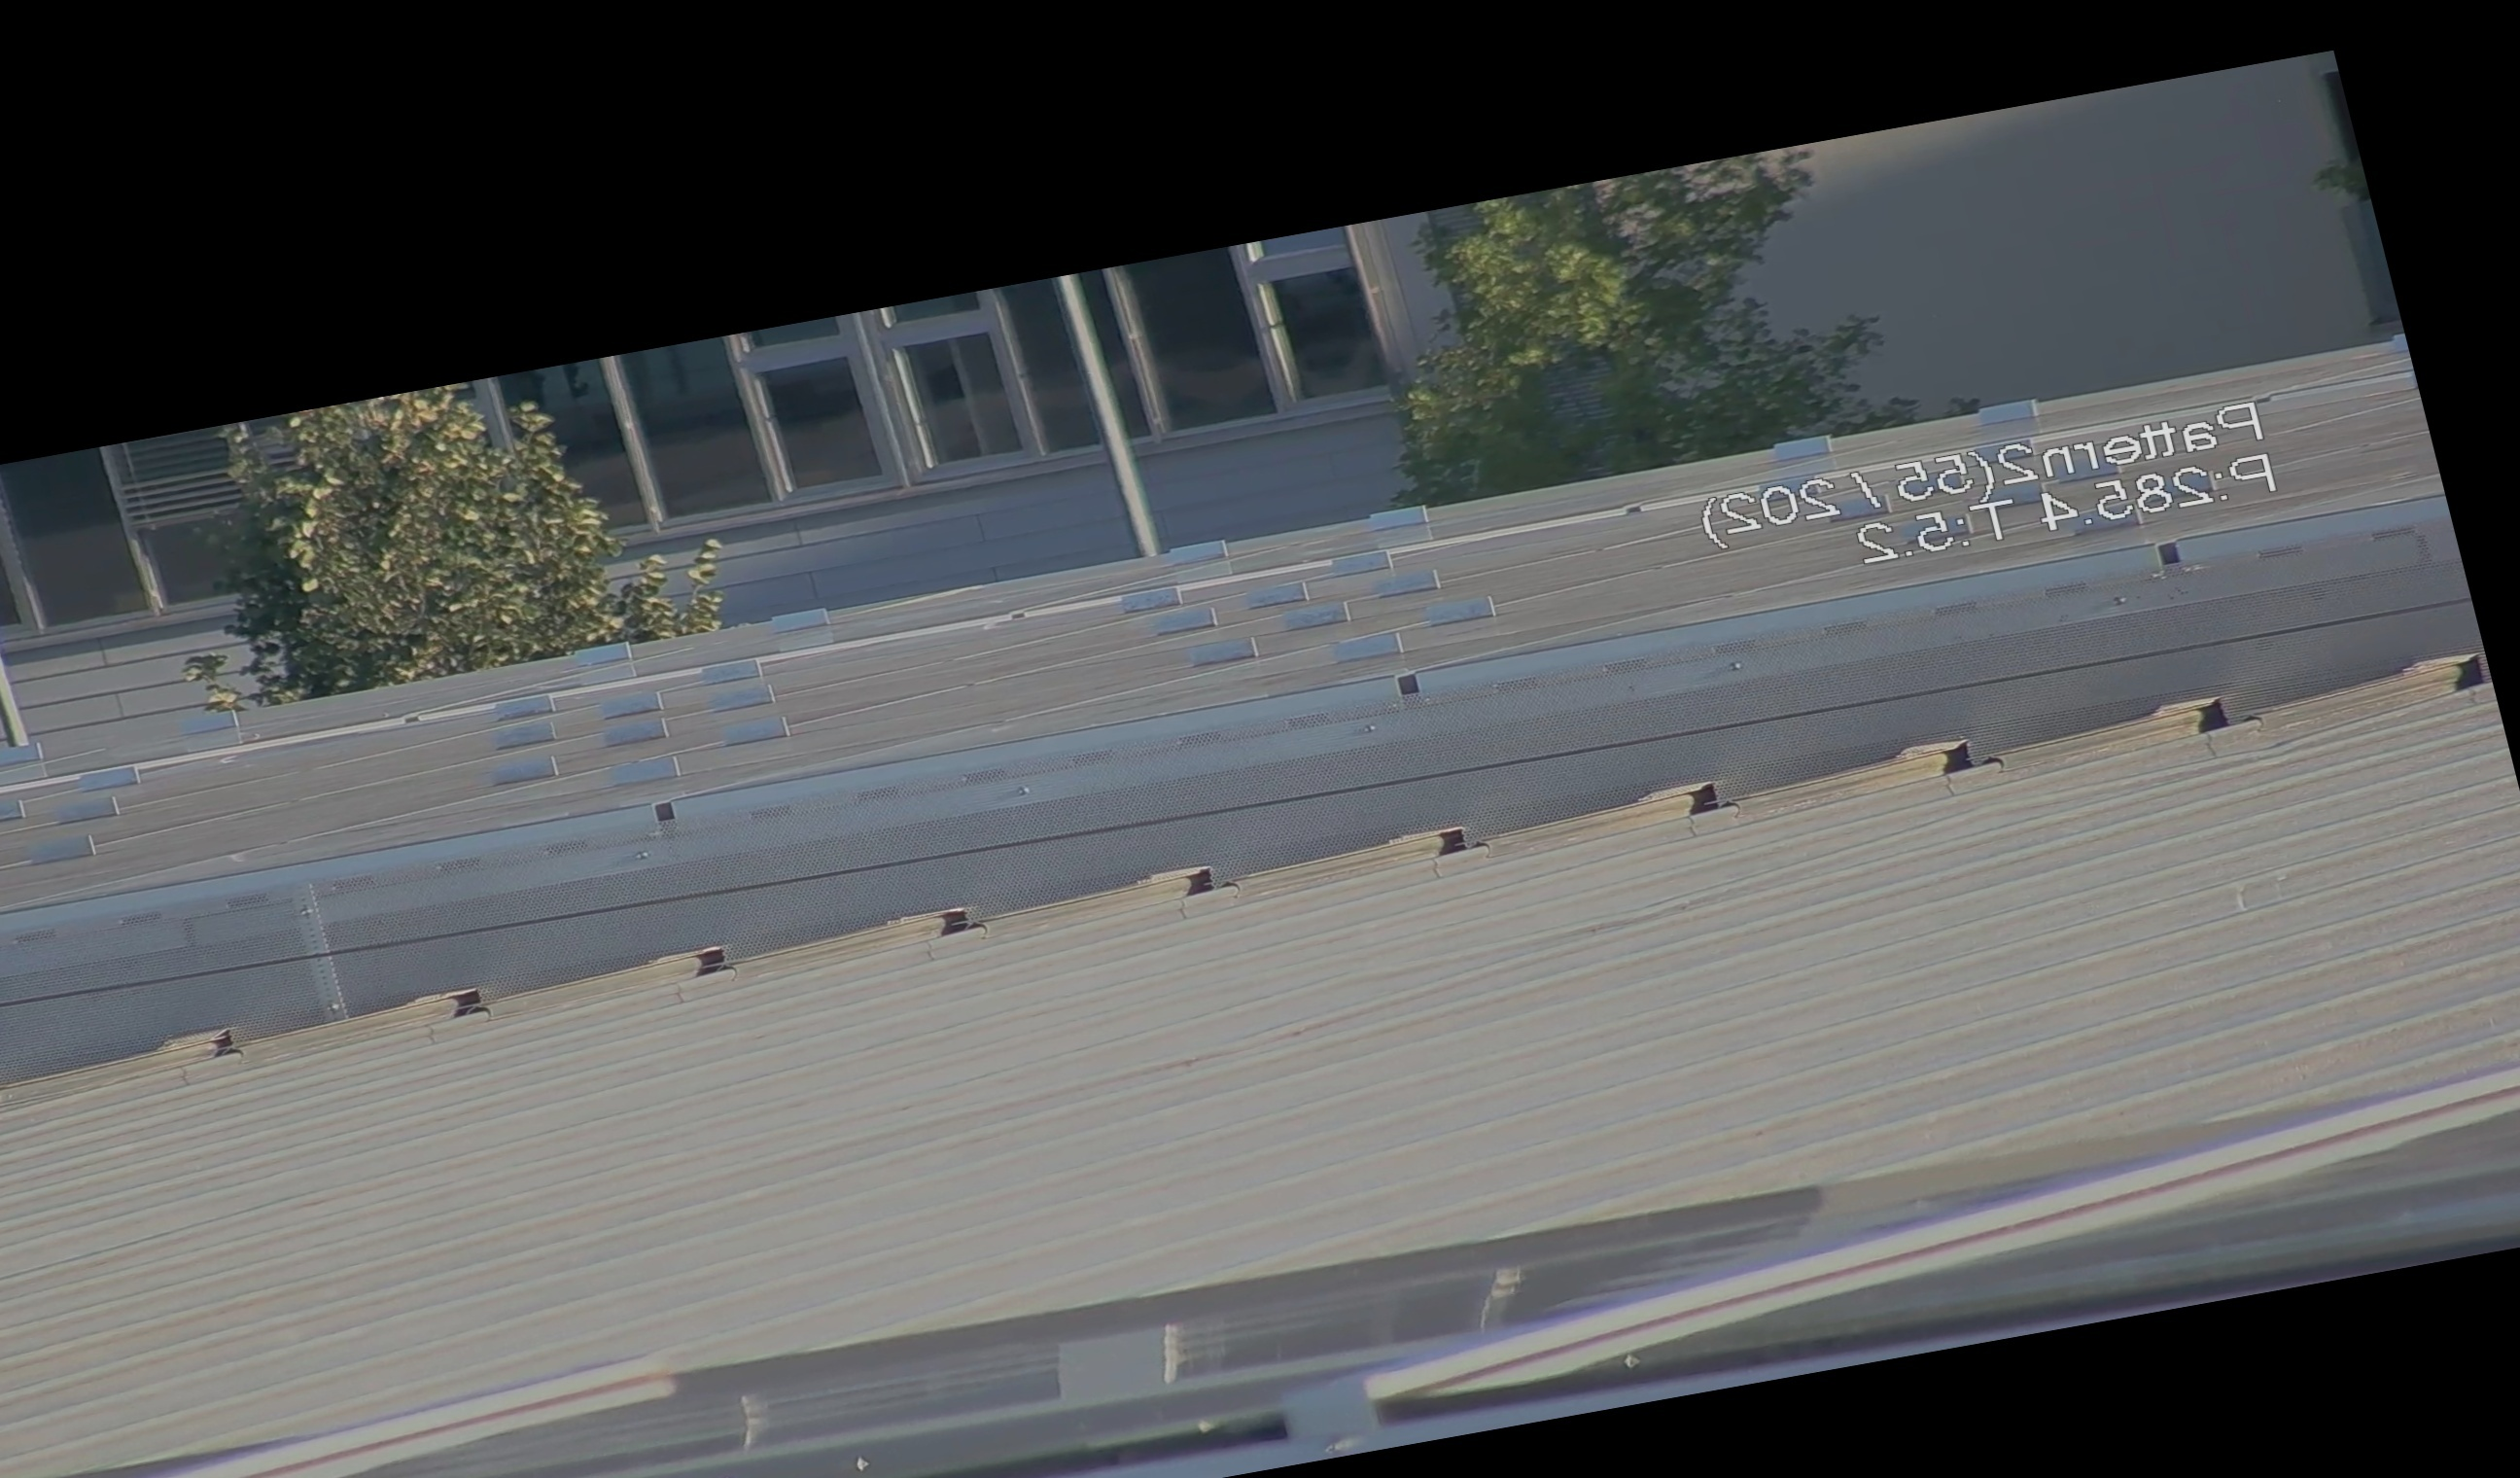Other: (1676, 771, 1752, 827)
